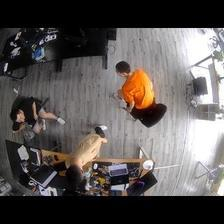normal: (9, 94, 66, 144), (109, 58, 155, 118), (65, 128, 109, 182)
